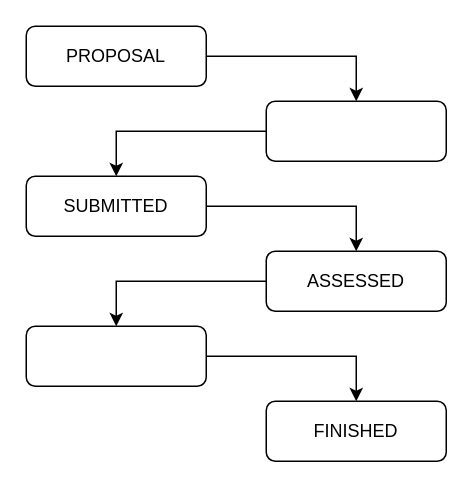
This 473x488 diagram has some shape labels left out. Here are the shapes that lost their labels. From the top down, the centre of each, then its label:
At pixel 355 130: "WRITING".
At pixel 115 355: "GRADED".
